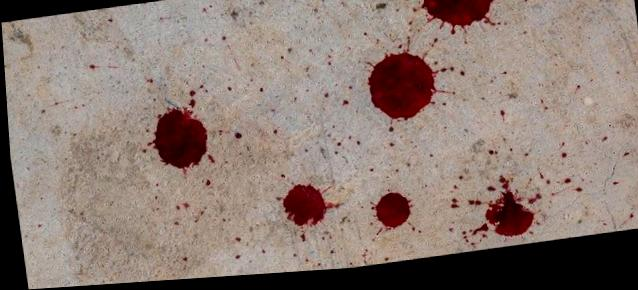Fire: (366, 56, 444, 127), (145, 109, 206, 177), (415, 0, 497, 40), (482, 184, 533, 244), (273, 188, 333, 231), (373, 198, 411, 235)
